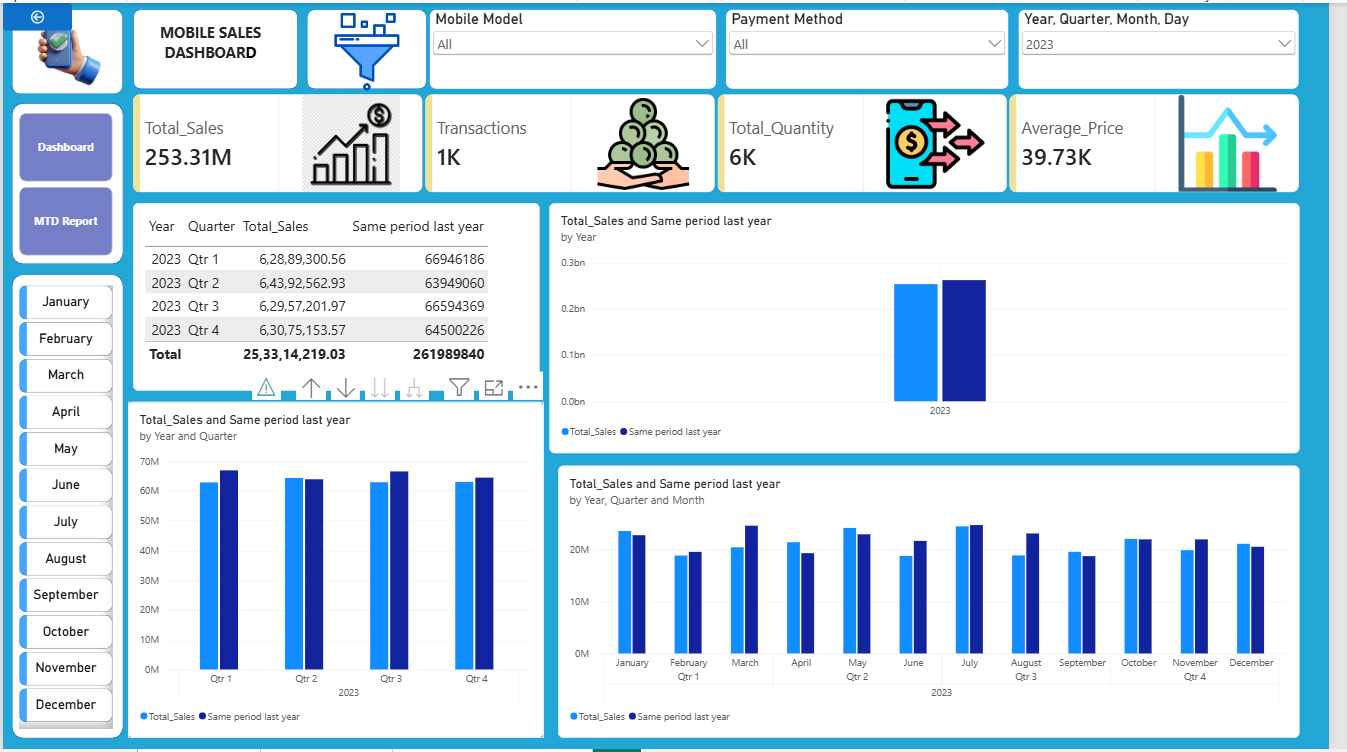

The dashboard page shown, as its layout file describes it:
{"tool":"powerbi","page":{"name":"Same Period Last Year ","canvas":[1920,1080],"ordinal":2},"visuals":[{"type":"shape","box":[12.7,9,161.1,123.1],"z":0},{"type":"image","box":[0,12.7,188.2,115.8],"z":1000},{"type":"shape","box":[12,145.6,161.5,233.3],"z":2000},{"type":"shape","box":[12,392.9,161.5,672],"z":3000},{"type":"cardVisual","fields":{"Data":["Sales_data.Total_Sales","Sales_data.Transactions","Sales_data.Total_Quantity","Sales_data.Average_Price"]},"box":[188.2,132.1,1688.4,143],"z":4000},{"type":"slicer","fields":{"Values":["Sales_data.Mobile Model"]},"box":[617.1,9,416.2,115.8],"z":5000},{"type":"slicer","fields":{"Values":["Sales_data.Payment Method"]},"box":[1046,9,410.8,115.8],"z":6000},{"type":"slicer","fields":{"Values":["Custum_Calender.Date.Variation.Date Hierarchy.Year","Custum_Calender.Date.Variation.Date Hierarchy.Quarter","Custum_Calender.Date.Variation.Date Hierarchy.Month","Custum_Calender.Date.Variation.Date Hierarchy.Day"]},"box":[1469.4,9,407.2,115.8],"z":7000},{"type":"shape","box":[439.7,9,173.7,115.8],"z":8000},{"type":"image","box":[456,12.7,141.2,115.8],"z":9000},{"type":"shape","box":[188.2,9,238.9,115.8],"z":10000},{"type":"textbox","box":[217.2,28,166.5,92.3],"z":11000},{"type":"tableEx","fields":{"Values":["Custum_Calender.Date.Variation.Date Hierarchy.Year","Custum_Calender.Date.Variation.Date Hierarchy.Quarter","Sales_data.Total_Sales","Sales_data.Same period last year"]},"box":[188.7,288.7,588.7,271.7],"z":13001},{"type":"actionButton","box":[0,0,100,40],"z":13002},{"type":"advancedSlicerVisual","fields":{"Values":["Custum_Calender.Date.Variation.Date Hierarchy.Month"]},"box":[23.5,409,135.7,642.4],"z":13003},{"type":"clusteredColumnChart","fields":{"Category":["Custum_Calender.Date.Variation.Date Hierarchy.Year","Custum_Calender.Date.Variation.Date Hierarchy.Quarter"],"Y":["Sales_data.Total_Sales","Sales_data.Same period last year"]},"box":[790.6,288.7,1086.8,362.3],"z":13004},{"type":"clusteredColumnChart","fields":{"Category":["Custum_Calender.Date.Variation.Date Hierarchy.Year","Custum_Calender.Date.Variation.Date Hierarchy.Quarter"],"Y":["Sales_data.Total_Sales","Sales_data.Same period last year"]},"box":[181.1,577.4,601.9,486.8],"z":13005},{"type":"clusteredColumnChart","fields":{"Y":["Sales_data.Total_Sales","Sales_data.Same period last year"],"Category":["Custum_Calender.Date.Variation.Date Hierarchy.Year","Custum_Calender.Date.Variation.Date Hierarchy.Quarter","Custum_Calender.Date.Variation.Date Hierarchy.Month","Custum_Calender.Date.Variation.Date Hierarchy.Day"]},"box":[803.8,669.8,1073.6,394.3],"z":13006},{"type":"pageNavigator","box":[22.6,158.5,135.8,207.5],"z":13007}]}

Visuals, with their boxes on the page's 1920x1080 design canvas (x1, y1, x2, y2). These are canvas units, not pixel positions in the 1347x752 screenshot, which may show the page scaled, cropped or inside an application window:
shape: box=[13, 9, 174, 132]
image: box=[0, 13, 188, 128]
shape: box=[12, 146, 174, 379]
shape: box=[12, 393, 174, 1065]
cardVisual - Sales_data.Total_Sales x Sales_data.Transactions: box=[188, 132, 1877, 275]
slicer - Sales_data.Mobile Model: box=[617, 9, 1033, 125]
slicer - Sales_data.Payment Method: box=[1046, 9, 1457, 125]
slicer - Custum_Calender.Date.Variation.Date Hierarchy.Year x Custum_Calender.Date.Variation.Date Hierarchy.Quarter: box=[1469, 9, 1877, 125]
shape: box=[440, 9, 613, 125]
image: box=[456, 13, 597, 128]
shape: box=[188, 9, 427, 125]
textbox: box=[217, 28, 384, 120]
tableEx - Custum_Calender.Date.Variation.Date Hierarchy.Year x Custum_Calender.Date.Variation.Date Hierarchy.Quarter: box=[189, 289, 777, 560]
actionButton: box=[0, 0, 100, 40]
advancedSlicerVisual - Custum_Calender.Date.Variation.Date Hierarchy.Month: box=[24, 409, 159, 1051]
clusteredColumnChart - Custum_Calender.Date.Variation.Date Hierarchy.Year x Custum_Calender.Date.Variation.Date Hierarchy.Quarter: box=[791, 289, 1877, 651]
clusteredColumnChart - Custum_Calender.Date.Variation.Date Hierarchy.Year x Custum_Calender.Date.Variation.Date Hierarchy.Quarter: box=[181, 577, 783, 1064]
clusteredColumnChart - Sales_data.Total_Sales x Sales_data.Same period last year: box=[804, 670, 1877, 1064]
pageNavigator: box=[23, 158, 158, 366]
